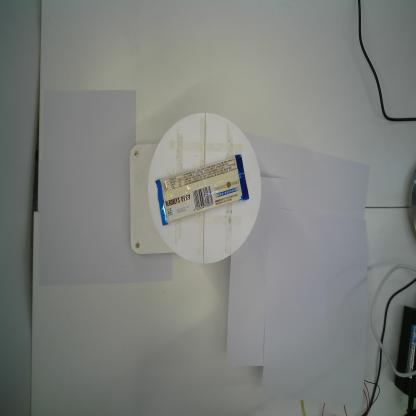Chocolate: (153, 152, 250, 225)
